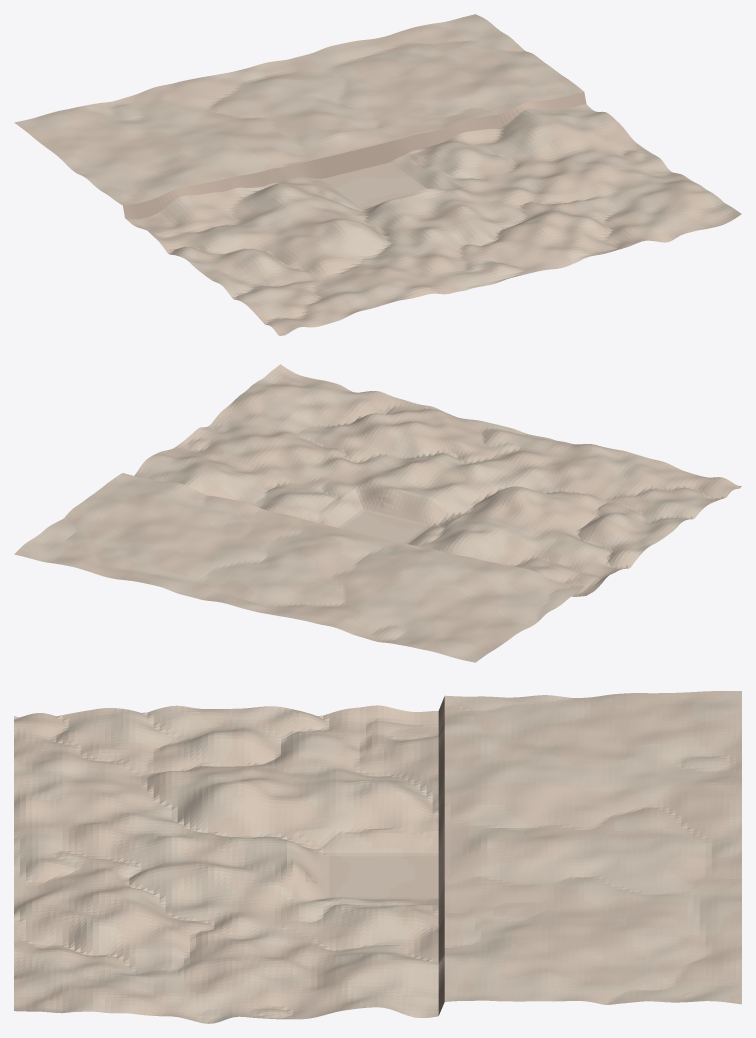
The model's file is far.glb.
3 views of the same model, one above another, from view 1: azimuth 30°, elevation 25°; view 2: azimuth 150°, elevation 25°; view 3: azimuth 270°, elevation 25° (orthographic). The views are drawn at different scales.
Parts seen in each view (by area): view 1: far; view 2: far; view 3: far.
Boxes of the visible parts, <box> form: far: <box>14,14,741,335</box>; far: <box>14,364,741,662</box>; far: <box>14,691,741,1023</box>.
Size of the model in its own units: 440 by 24.07 by 440.
